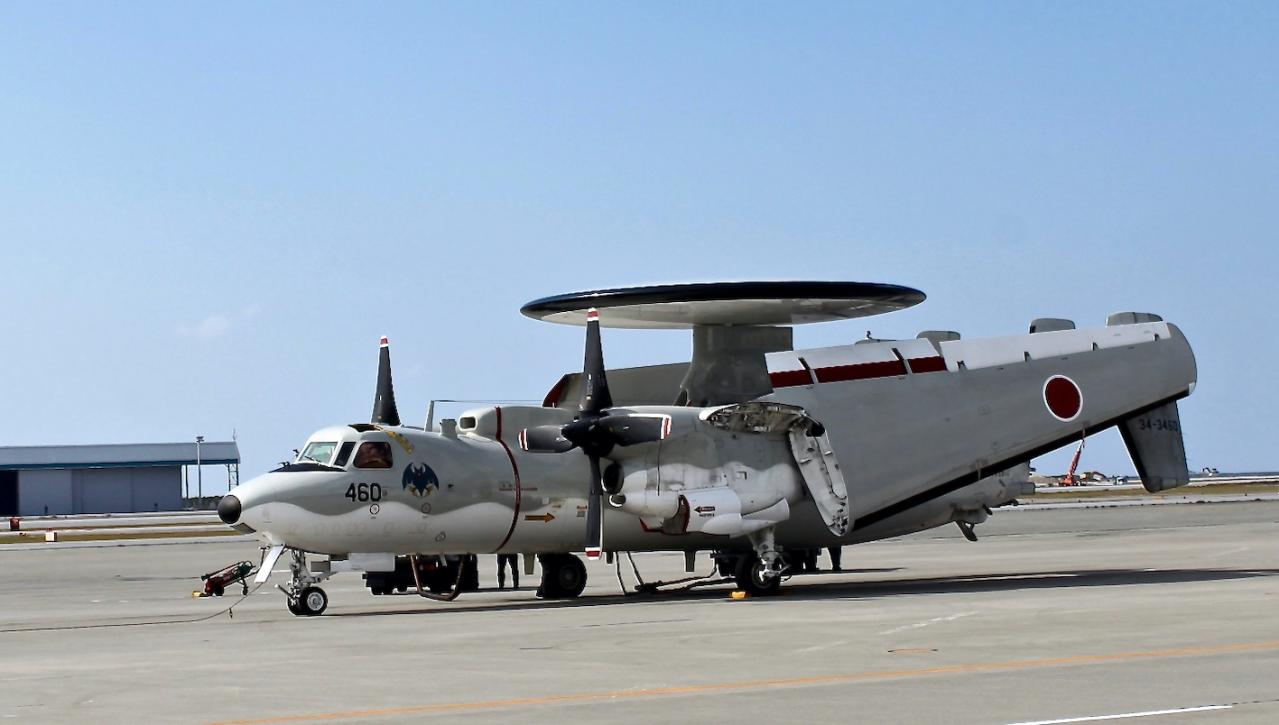E2: (217, 281, 1198, 616)
